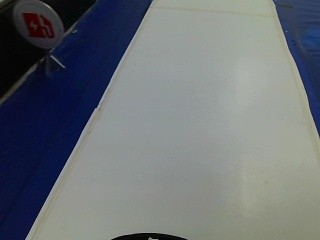battery: (13, 2, 60, 49)
